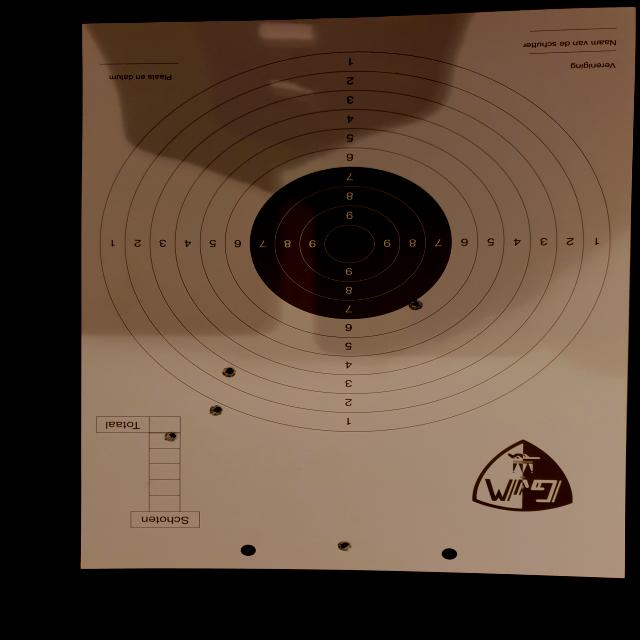0: (208, 405, 224, 417), (337, 540, 353, 551), (163, 432, 178, 442)
2: (222, 366, 236, 379)
7: (408, 299, 423, 310)
Target: (98, 50, 611, 433)
black_contour: (250, 166, 452, 320)
